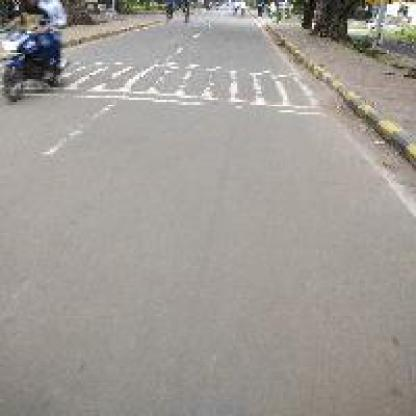Speed Bump: (63, 58, 324, 116)
